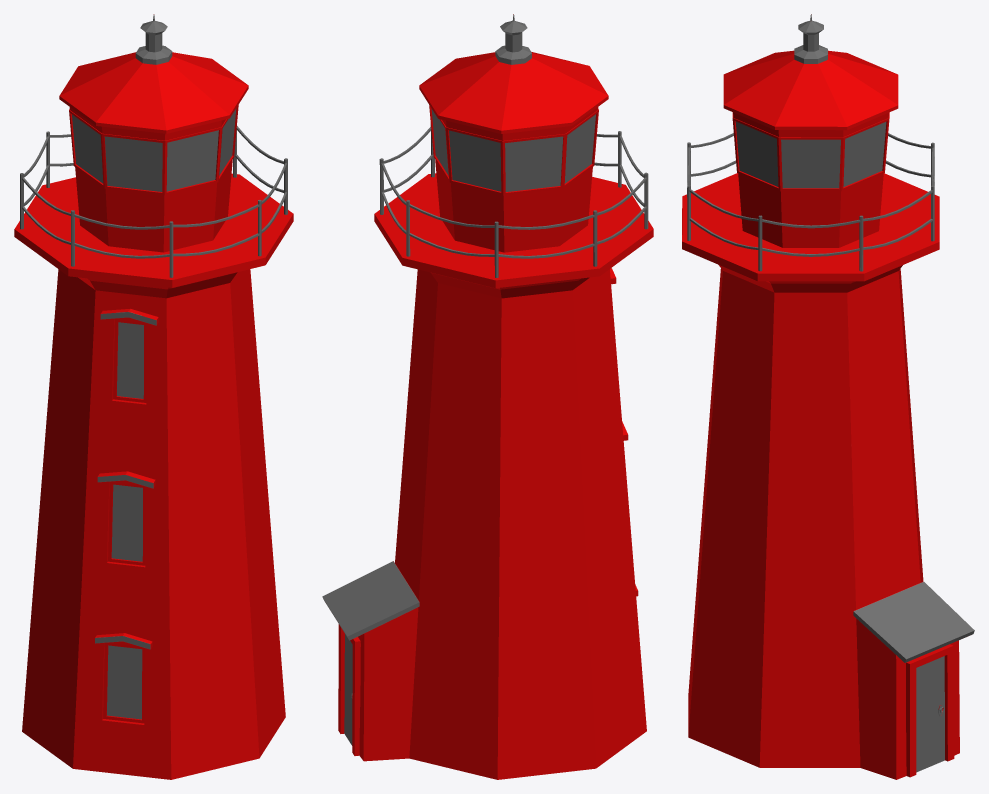
File: svetionik.obj
The picture shows the model from 3 angles, left to right: view 1: azimuth 30°, elevation 25°; view 2: azimuth 150°, elevation 25°; view 3: azimuth 270°, elevation 25°; orthographic projection.
Visible parts, largest first — view 1: Lighthouse Mesh; view 2: Lighthouse Mesh; view 3: Lighthouse Mesh.
Part boxes in pixels (x1=…): Lighthouse Mesh: x1=14, y1=14, x2=293, y2=779; Lighthouse Mesh: x1=322, y1=14, x2=653, y2=779; Lighthouse Mesh: x1=682, y1=14, x2=974, y2=779.
Size of the model in its own units: 21.71 by 57.49 by 21.7.
Materials: 1 (1 with a texture image).
